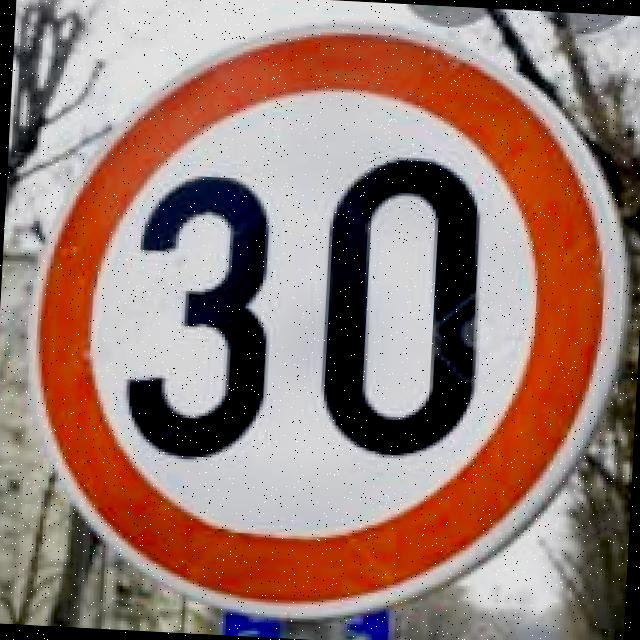Ograniczenie predkosci do 30: (11, 3, 640, 635)
